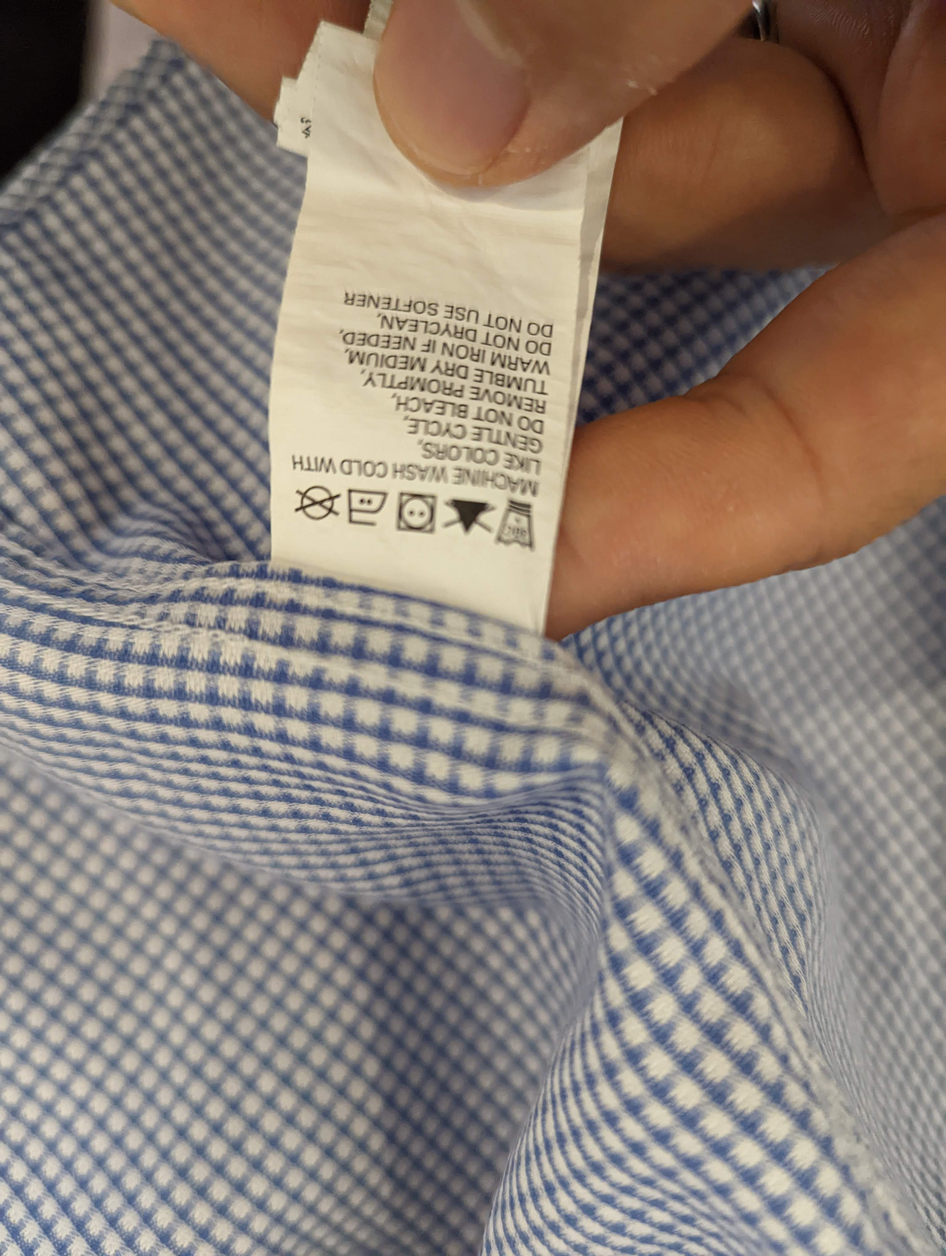ER_iron_medium_temp: (345, 484, 391, 531)
ER_no_bleach: (441, 493, 499, 538)
ER_no_dry_clean: (292, 479, 344, 526)
ER_tumble_dry_normal_heat: (393, 487, 439, 539)
